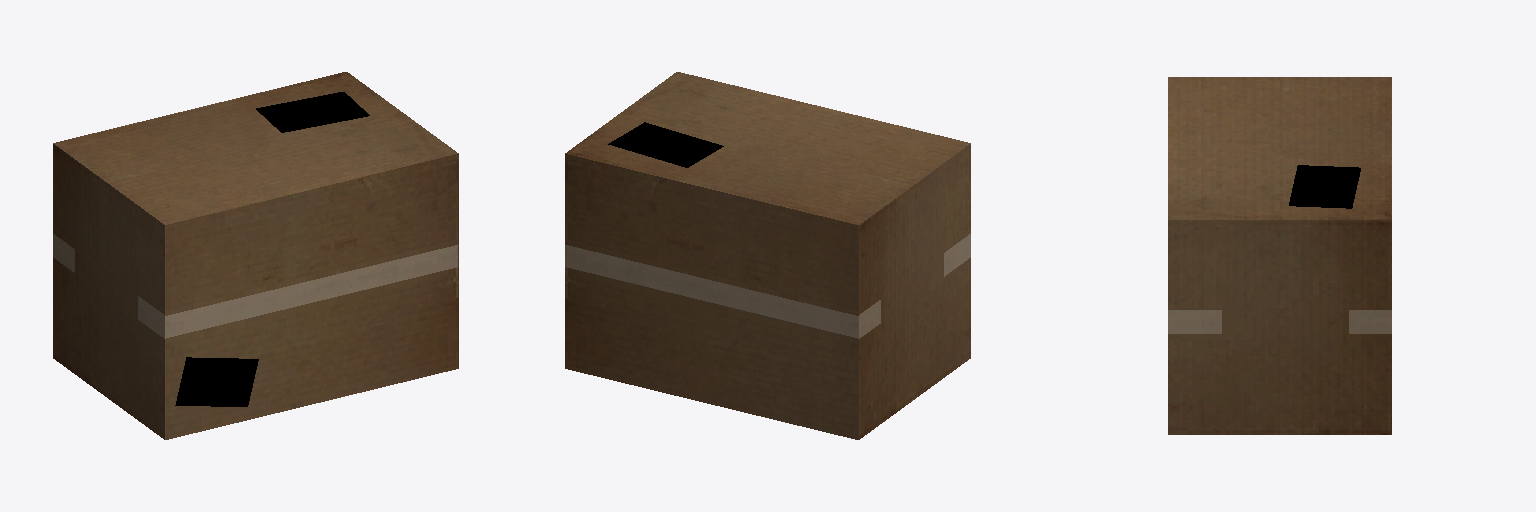
3 views of the same model, side by side, from view 1: azimuth 30°, elevation 25°; view 2: azimuth 150°, elevation 25°; view 3: azimuth 270°, elevation 25° (orthographic).
Parts seen in each view (by area): view 1: mtl_p_glo_cardboardbox, mtl_p_glo_cardboardbox_decal; view 2: mtl_p_glo_cardboardbox, mtl_p_glo_cardboardbox_decal; view 3: mtl_p_glo_cardboardbox, mtl_p_glo_cardboardbox_decal.
Part boxes in pixels (x1,y1,x2,y2): mtl_p_glo_cardboardbox: (53, 72, 458, 439); mtl_p_glo_cardboardbox_decal: (175, 92, 369, 406); mtl_p_glo_cardboardbox: (565, 72, 970, 439); mtl_p_glo_cardboardbox_decal: (608, 122, 723, 167); mtl_p_glo_cardboardbox: (1168, 77, 1391, 434); mtl_p_glo_cardboardbox_decal: (1289, 165, 1360, 208).
Size of the model in its own units: 74 by 51.92 by 49.
2 materials, 1 textured.